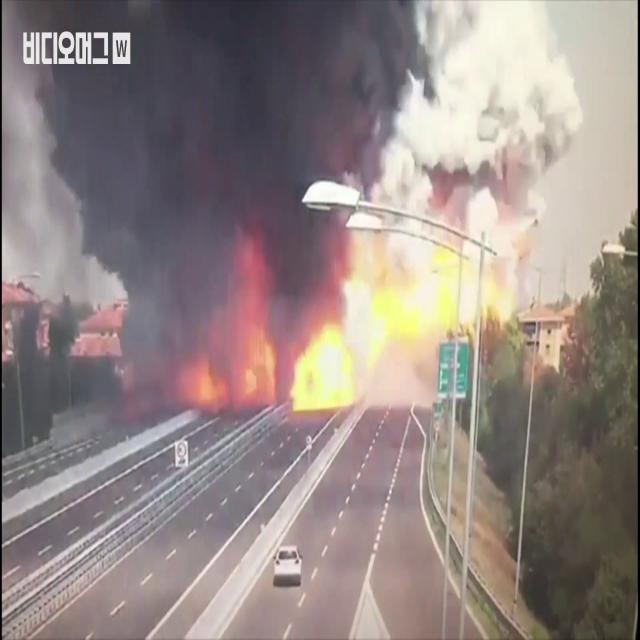explosion: (7, 0, 640, 492)
